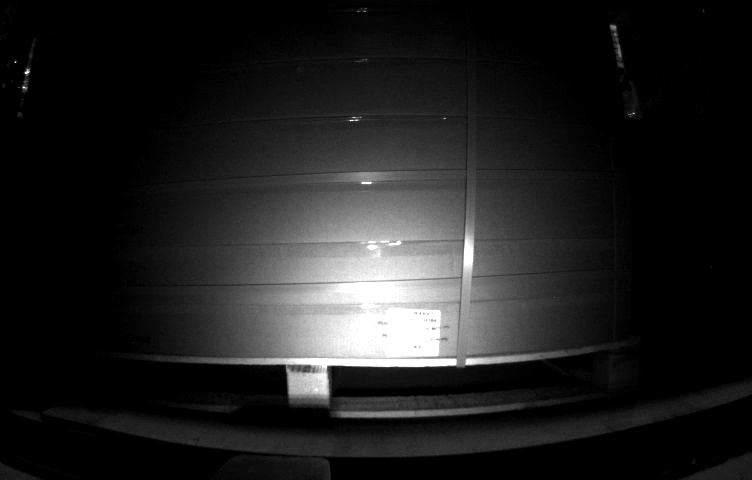True Barcode: (383, 307, 440, 356)
